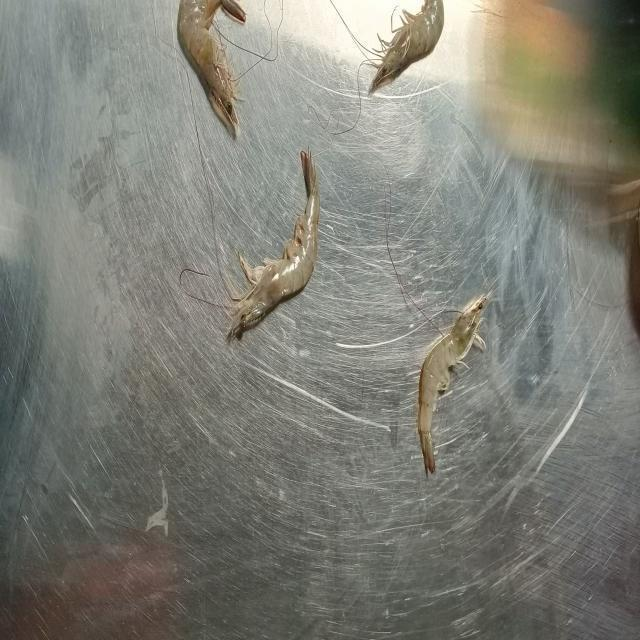shrimp: (228, 151, 320, 339), (418, 294, 489, 474), (178, 0, 245, 135), (369, 0, 444, 93)
